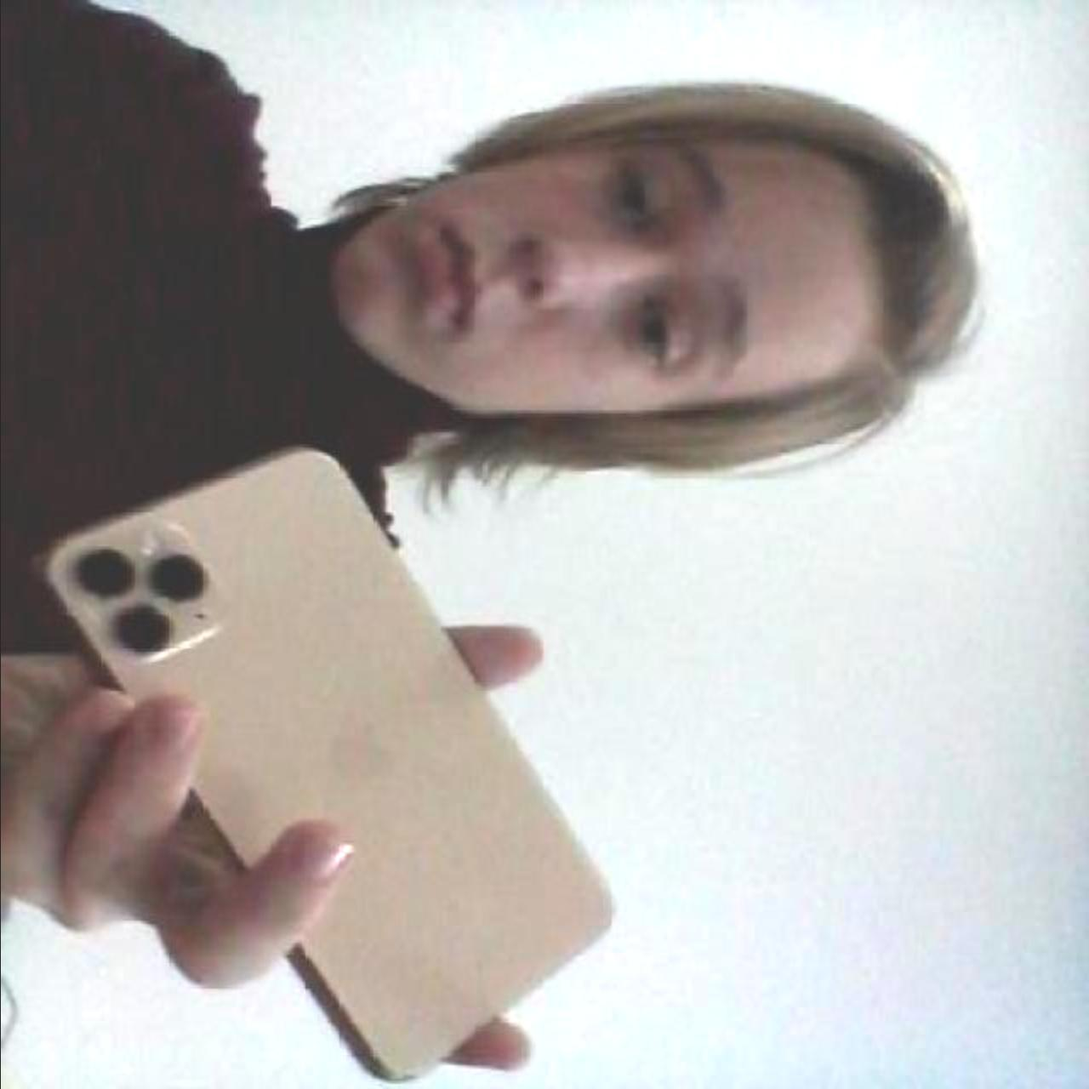phone: (11, 394, 661, 1088)
